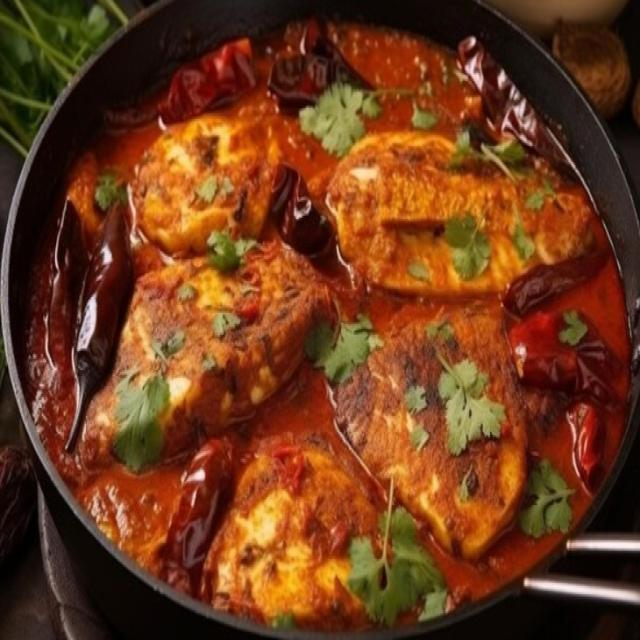FISH CURRY: (11, 16, 636, 629)
